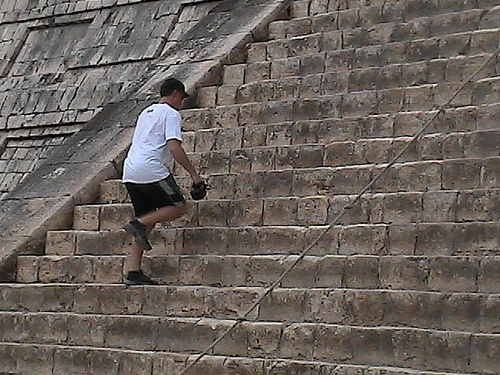head: (159, 76, 191, 112)
person: (120, 78, 207, 285)
